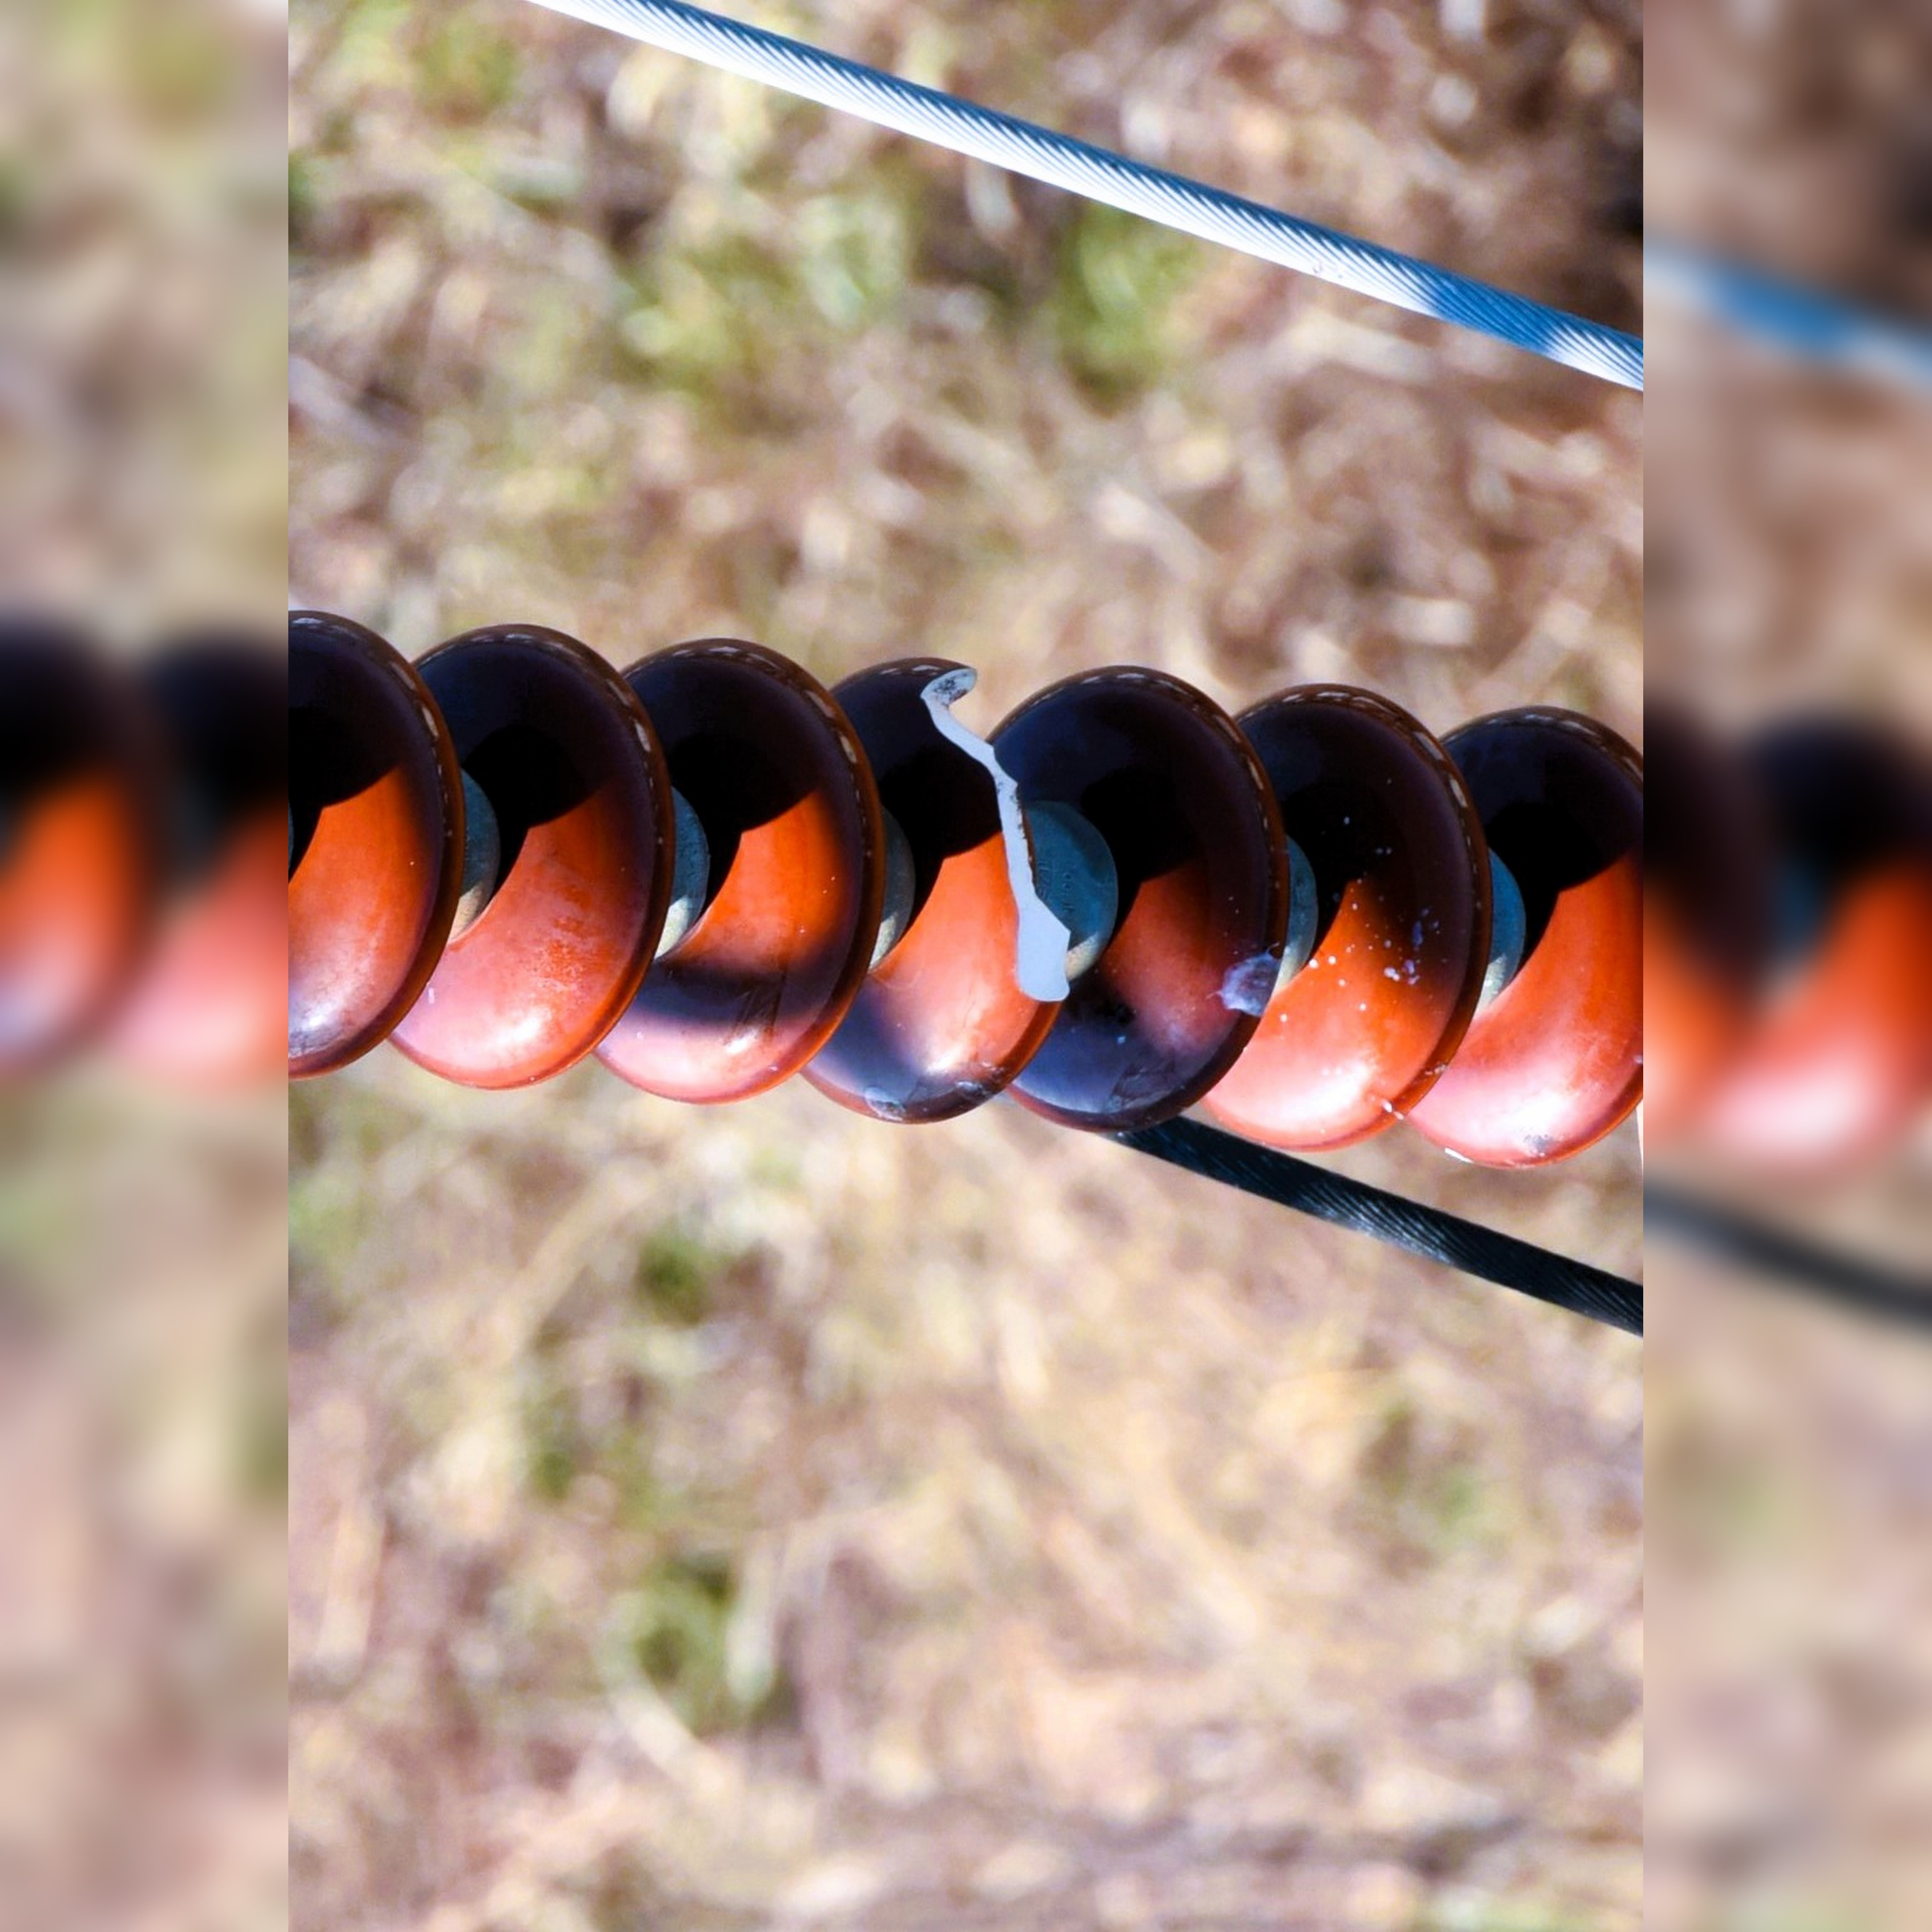insulator breakage: (798, 644, 1077, 1132)
